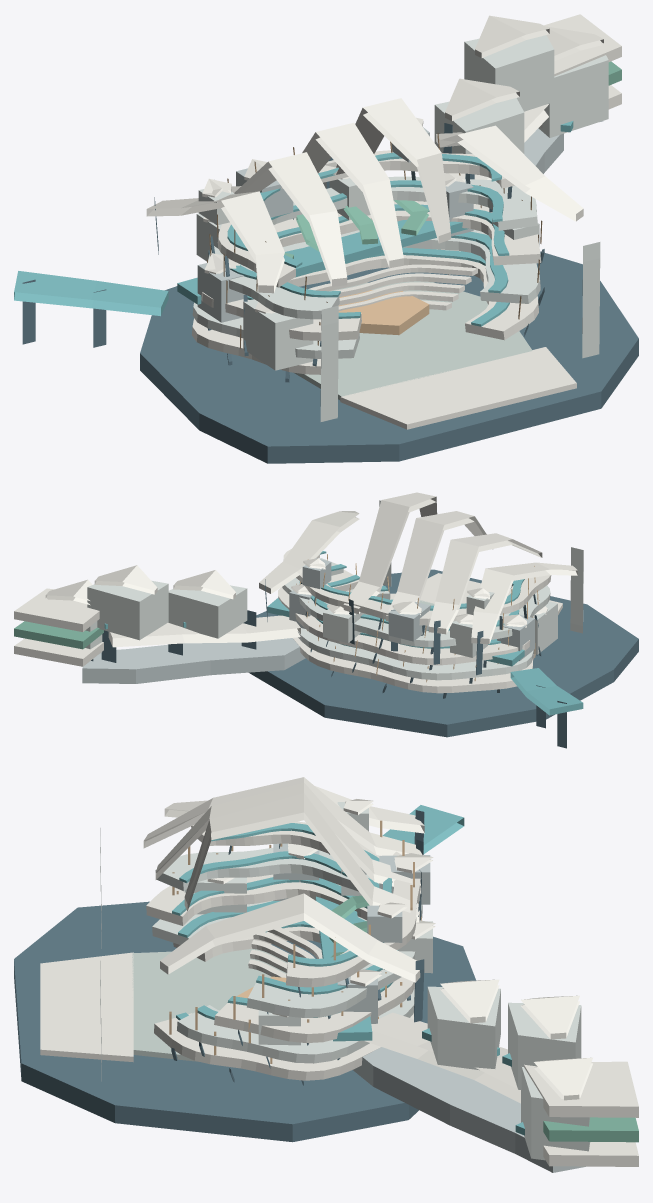
The model's file is J7R8_CIVIC_LENS_ART_STUDY.glb.
3 views of the same model, one above another, from view 1: azimuth 30°, elevation 25°; view 2: azimuth 150°, elevation 25°; view 3: azimuth 270°, elevation 25° (orthographic). The views are drawn at different scales.
Visible parts, largest first — view 1: BASE_SINGLE_CIVIC_LENS_CITY_SHORE, NAVE_TRULY_OPEN_CENTRAL_ASSEMBLY, PUBLIC_ARRIVAL_FORECOURT, INHABITED_URBAN_TERRACE_3, SIX_CIVIC_VAULT_SPINES_2, SIX_CIVIC_VAULT_SPINES_3, SIX_CIVIC_VAULT_SPINES_1, INHABITED_URBAN_TERRACE_0, SIX_CIVIC_VAULT_SPINES_0, UPLAND_SOCIETY_BUILDING_1, INHABITED_URBAN_TERRACE_1, WEST_ARRIVAL_INTEGRATED_PUBLIC_SPINE (+32 smaller); view 2: BASE_SINGLE_CIVIC_LENS_CITY_SHORE, INTEGRATED_CITY_SPUR_THICK_PUBLIC_GROUND, SIX_CIVIC_VAULT_SPINES_3, UPLAND_SOCIETY_BUILDING_1, INHABITED_URBAN_TERRACE_1, SIX_CIVIC_VAULT_SPINES_1, SIX_CIVIC_VAULT_SPINES_2, UPLAND_SOCIETY_BUILDING_0, INHABITED_URBAN_TERRACE_0, INHABITED_URBAN_TERRACE_2, INTEGRATED_UPLAND_CIVIC_HIGH_STREET, SIX_CIVIC_VAULT_SPINES_0 (+23 smaller); view 3: BASE_SINGLE_CIVIC_LENS_CITY_SHORE, PUBLIC_ARRIVAL_FORECOURT, INTEGRATED_CITY_SPUR_THICK_PUBLIC_GROUND, NAVE_TRULY_OPEN_CENTRAL_ASSEMBLY, INHABITED_URBAN_TERRACE_2, SIX_CIVIC_VAULT_SPINES_5, INHABITED_URBAN_TERRACE_3, SIX_CIVIC_VAULT_SPINES_3, INHABITED_URBAN_TERRACE_0, INHABITED_URBAN_TERRACE_1, UPLAND_SOCIETY_BUILDING_0, INHABITED_URBAN_TERRACE_4 (+24 smaller).
Boxes of the visible parts, <box> form: BASE_SINGLE_CIVIC_LENS_CITY_SHORE: <box>140,251,638,463</box>; NAVE_TRULY_OPEN_CENTRAL_ASSEMBLY: <box>294,281,532,400</box>; PUBLIC_ARRIVAL_FORECOURT: <box>340,347,576,429</box>; INHABITED_URBAN_TERRACE_3: <box>208,176,537,319</box>; SIX_CIVIC_VAULT_SPINES_2: <box>276,122,403,268</box>; SIX_CIVIC_VAULT_SPINES_3: <box>325,98,450,243</box>; SIX_CIVIC_VAULT_SPINES_1: <box>231,152,347,286</box>; INHABITED_URBAN_TERRACE_0: <box>191,249,538,374</box>; SIX_CIVIC_VAULT_SPINES_0: <box>146,191,284,293</box>; UPLAND_SOCIETY_BUILDING_1: <box>464,35,554,111</box>; INHABITED_URBAN_TERRACE_1: <box>192,229,540,358</box>; WEST_ARRIVAL_INTEGRATED_PUBLIC_SPINE: <box>14,271,168,316</box>; BASE_SINGLE_CIVIC_LENS_CITY_SHORE: <box>249,569,638,737</box>; INTEGRATED_CITY_SPUR_THICK_PUBLIC_GROUND: <box>82,638,305,683</box>; SIX_CIVIC_VAULT_SPINES_3: <box>343,492,437,614</box>; UPLAND_SOCIETY_BUILDING_1: <box>87,580,168,640</box>; INHABITED_URBAN_TERRACE_1: <box>297,585,533,680</box>; SIX_CIVIC_VAULT_SPINES_1: <box>428,533,542,634</box>; SIX_CIVIC_VAULT_SPINES_2: <box>386,511,492,621</box>; UPLAND_SOCIETY_BUILDING_0: <box>168,585,247,638</box>; INHABITED_URBAN_TERRACE_0: <box>293,593,535,693</box>; INHABITED_URBAN_TERRACE_2: <box>278,570,530,665</box>; INTEGRATED_UPLAND_CIVIC_HIGH_STREET: <box>108,615,300,647</box>; SIX_CIVIC_VAULT_SPINES_0: <box>471,562,577,644</box>; BASE_SINGLE_CIVIC_LENS_CITY_SHORE: <box>14,901,476,1142</box>; PUBLIC_ARRIVAL_FORECOURT: <box>40,952,133,1062</box>; INTEGRATED_CITY_SPUR_THICK_PUBLIC_GROUND: <box>353,1047,585,1172</box>; NAVE_TRULY_OPEN_CENTRAL_ASSEMBLY: <box>132,948,287,1061</box>; INHABITED_URBAN_TERRACE_2: <box>146,874,422,1043</box>; SIX_CIVIC_VAULT_SPINES_5: <box>160,893,420,982</box>; INHABITED_URBAN_TERRACE_3: <box>155,848,422,1017</box>; SIX_CIVIC_VAULT_SPINES_3: <box>184,793,419,922</box>; INHABITED_URBAN_TERRACE_0: <box>154,926,413,1080</box>; INHABITED_URBAN_TERRACE_1: <box>152,900,414,1063</box>; UPLAND_SOCIETY_BUILDING_0: <box>427,986,500,1070</box>; INHABITED_URBAN_TERRACE_4: <box>191,821,420,987</box>.
Bounding box in the file's own units: 2155 × 696 × 1670.
